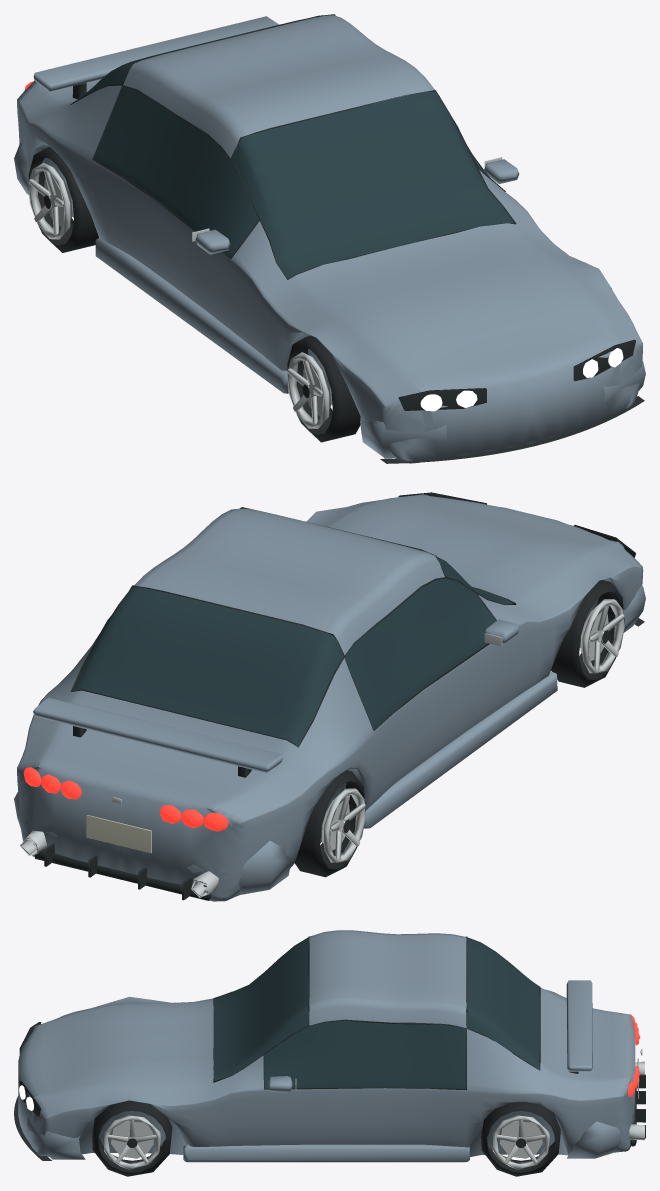
Rendered from neralith-qeryn.glb.
3 views of the same model, one above another, from view 1: azimuth 30°, elevation 25°; view 2: azimuth 150°, elevation 25°; view 3: azimuth 270°, elevation 25° (orthographic). The views are drawn at different scales.
Visible parts, largest first — view 1: scocca, cristallo_ant, cofano, tetto, cristallo_sx, porta_sx, minigonna_sx, spoiler, ruota_ant_sx_gomma, ruota_post_sx_gomma, paraurti_ant, ruota_post_sx_cerchio (+11 smaller); view 2: scocca, cristallo_post, tetto, portellone, cofano, cristallo_sx, porta_sx, spoiler, minigonna_sx, ruota_ant_sx_gomma, ruota_post_sx_gomma, paraurti_post (+8 smaller); view 3: scocca, cofano, tetto, porta_dx, cristallo_dx, cristallo_ant, cristallo_post, portellone, minigonna_dx, spoiler, ruota_ant_dx_gomma, ruota_post_dx_gomma (+12 smaller).
Boxes of the visible parts, x1,y1,x2,y2 form: scocca: (17, 83, 642, 463); cristallo_ant: (231, 91, 513, 279); cofano: (288, 223, 617, 382); tetto: (123, 15, 434, 158); cristallo_sx: (93, 85, 258, 257); porta_sx: (92, 160, 246, 341); minigonna_sx: (95, 238, 288, 393); spoiler: (33, 16, 278, 91); ruota_ant_sx_gomma: (287, 335, 360, 442); ruota_post_sx_gomma: (28, 147, 98, 252); paraurti_ant: (360, 360, 645, 458); ruota_post_sx_cerchio: (28, 162, 70, 239); scocca: (17, 494, 643, 901); cristallo_post: (71, 587, 343, 746); tetto: (134, 508, 444, 655); portellone: (32, 690, 298, 812); cofano: (325, 496, 616, 604); cristallo_sx: (344, 578, 495, 729); porta_sx: (367, 636, 516, 808); spoiler: (33, 698, 283, 772); minigonna_sx: (363, 671, 557, 828); ruota_ant_sx_gomma: (551, 580, 624, 687); ruota_post_sx_gomma: (294, 770, 365, 877); paraurti_post: (14, 791, 291, 895); scocca: (18, 989, 635, 1156); cofano: (41, 999, 213, 1099); tetto: (309, 930, 466, 1028); porta_dx: (248, 1088, 466, 1147); cristallo_dx: (264, 1020, 466, 1089); cristallo_ant: (213, 937, 309, 1080); cristallo_post: (467, 937, 539, 1069); portellone: (540, 987, 635, 1085); minigonna_dx: (183, 1144, 469, 1162); spoiler: (566, 980, 592, 1071); ruota_ant_dx_gomma: (92, 1100, 172, 1176); ruota_post_dx_gomma: (481, 1102, 560, 1176).
Size of the model in its own units: 2.27 by 1.5 by 5.32.
